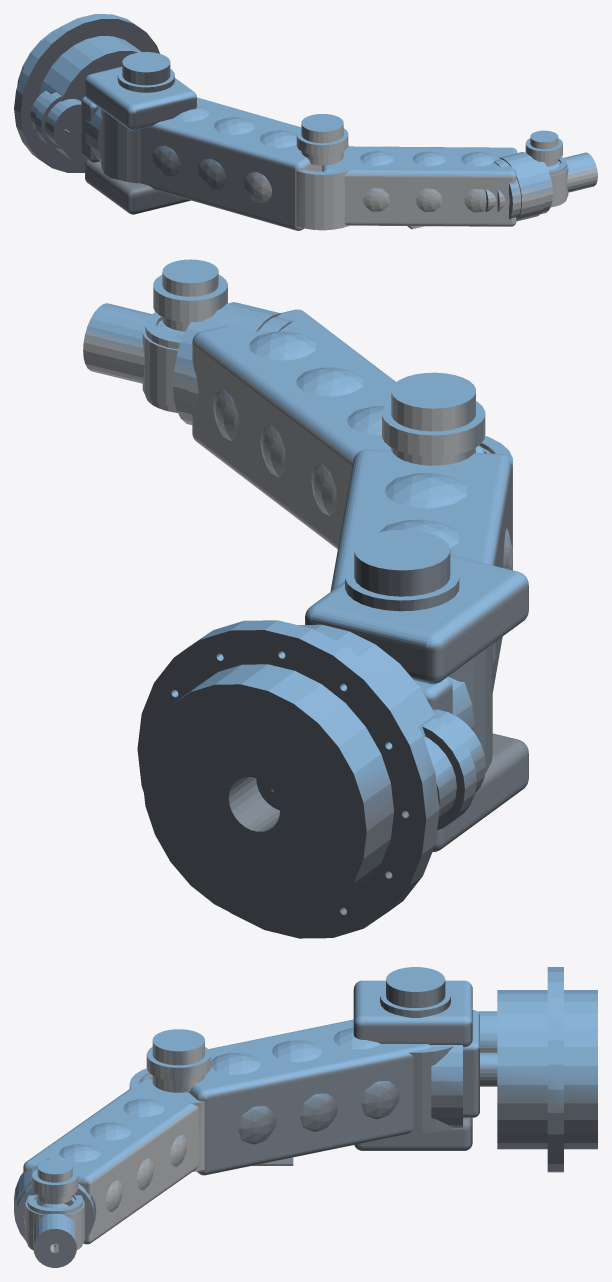
The model's file is Parametric_STEP_Assembly_Of_A_Large_6-axis_Industrial.glb.
3 views of the same model, one above another, from view 1: azimuth 30°, elevation 25°; view 2: azimuth 150°, elevation 25°; view 3: azimuth 270°, elevation 25° (orthographic). The views are drawn at different scales.
Parts seen in each view (by area): view 1: world; view 2: world; view 3: world.
Part boxes in pixels (<box>): world: <box>14,14,597,230</box>; world: <box>83,259,528,938</box>; world: <box>14,967,597,1267</box>.
Size of the model in its own units: 2.3 by 0.8934 by 2.55.
